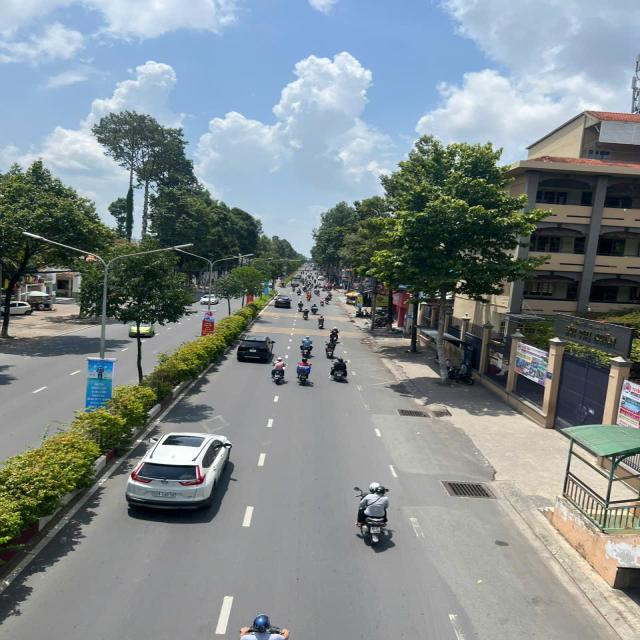car: (125, 422, 236, 515), (232, 329, 277, 366), (124, 314, 162, 341), (272, 291, 294, 311), (198, 290, 218, 307)
motobyte: (351, 480, 398, 552), (268, 354, 290, 387), (328, 355, 352, 384), (294, 355, 315, 387), (297, 332, 317, 360), (328, 323, 346, 347), (324, 336, 339, 360), (315, 312, 329, 330), (299, 306, 313, 323)
